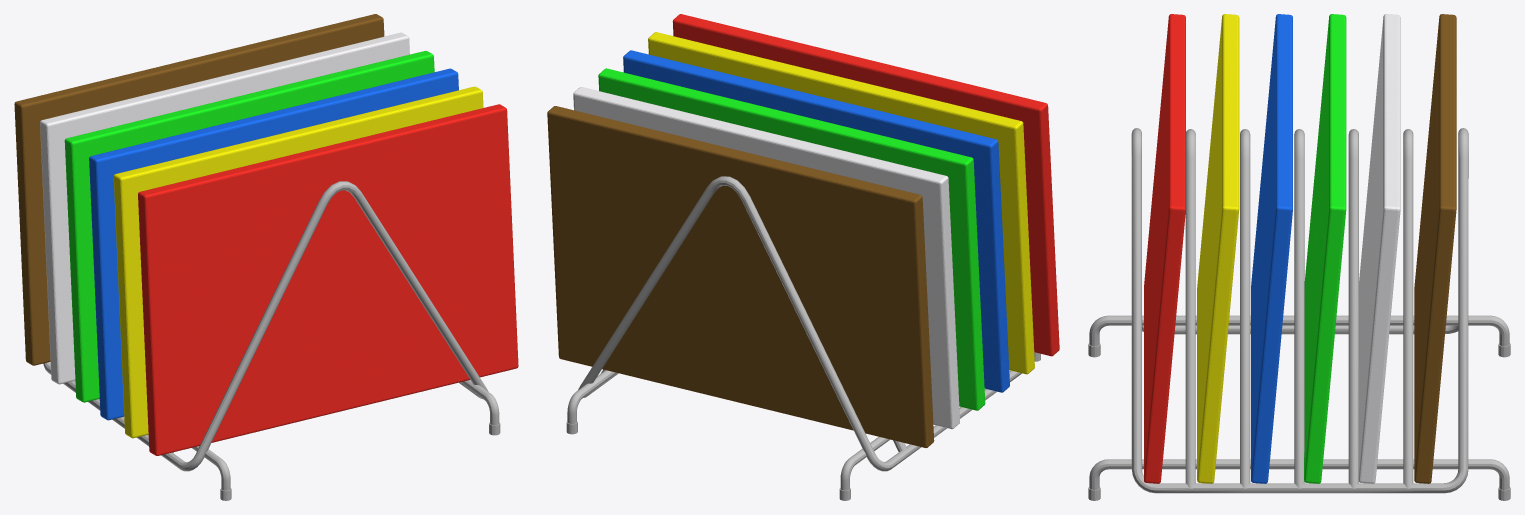
The model's file is Talenan.fbx.
3 renders of one model, left to right at view 1: azimuth 30°, elevation 25°; view 2: azimuth 150°, elevation 25°; view 3: azimuth 270°, elevation 25°, orthographic. The views are drawn at different scales.
Parts seen in each view (by area): view 1: Talenan Merah, Talenan Coklat, Talenan Putih, Talenan Biru, Talenan Kuning, Talenan Hijau, Board Rack; view 2: Talenan Coklat, Talenan Putih, Talenan Hijau, Talenan Kuning, Talenan Biru, Talenan Merah, Board Rack; view 3: Board Rack, Talenan Coklat, Talenan Kuning, Talenan Hijau, Talenan Putih, Talenan Merah, Talenan Biru.
Boxes of the visible parts, left/top/right/bottom form: Talenan Merah: left=138, top=104, right=518, bottom=455; Talenan Coklat: left=14, top=14, right=384, bottom=365; Talenan Putih: left=40, top=32, right=409, bottom=384; Talenan Biru: left=89, top=68, right=458, bottom=420; Talenan Kuning: left=113, top=86, right=483, bottom=438; Talenan Hijau: left=64, top=50, right=434, bottom=402; Board Rack: left=43, top=181, right=500, bottom=500; Talenan Coklat: left=547, top=106, right=934, bottom=447; Talenan Putih: left=573, top=87, right=959, bottom=429; Talenan Hijau: left=598, top=68, right=985, bottom=410; Talenan Kuning: left=648, top=32, right=1034, bottom=374; Talenan Biru: left=623, top=50, right=1009, bottom=392; Talenan Merah: left=672, top=14, right=1059, bottom=356; Board Rack: left=566, top=176, right=1040, bottom=500; Board Rack: left=1088, top=128, right=1510, bottom=500; Talenan Coklat: left=1414, top=14, right=1456, bottom=483; Talenan Kuning: left=1197, top=14, right=1239, bottom=483; Talenan Hijau: left=1304, top=14, right=1346, bottom=483; Talenan Putih: left=1358, top=14, right=1400, bottom=483; Talenan Merah: left=1144, top=14, right=1185, bottom=483; Talenan Biru: left=1251, top=14, right=1292, bottom=483.
Size of the model in its own units: 44.97 by 34.17 by 41.33.
7 materials, 7 textured.
